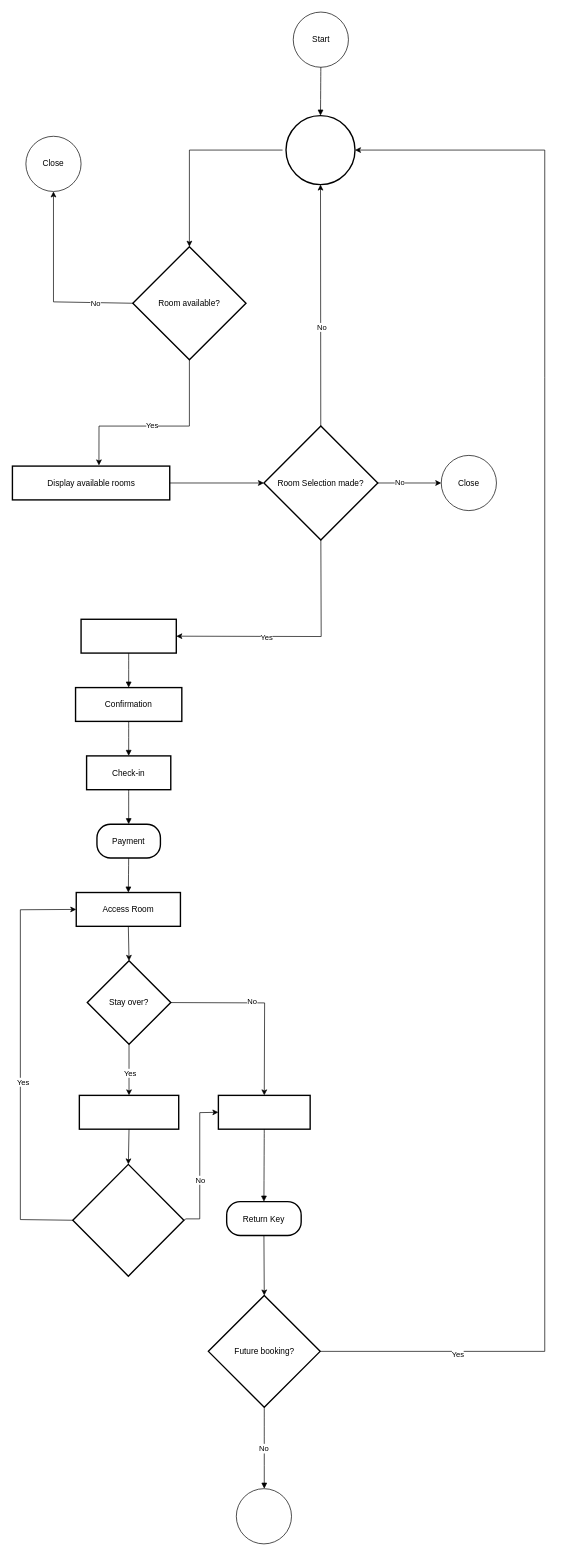
Image size: 562x1556. Some labels were removed from this diagram. The centre of each missing label's shape, as x and y in pixels:
"Book Room" goes at [128,635].
"Check-out" goes at [263,1112].
"End" goes at [264,1516].
"Extend Stay" goes at [128,1112].
"Payment made?" goes at [128,1219].
"Search Room Availability" goes at [320,150].
